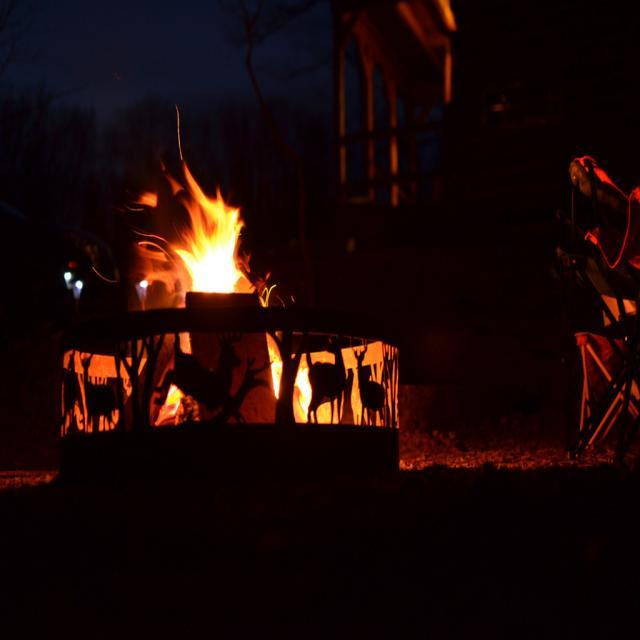Fire: (173, 204, 250, 290)
